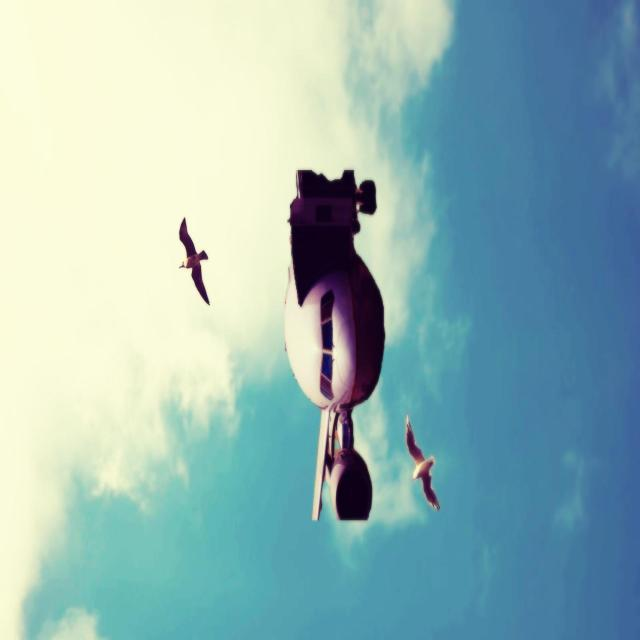airplane: (284, 167, 386, 521)
